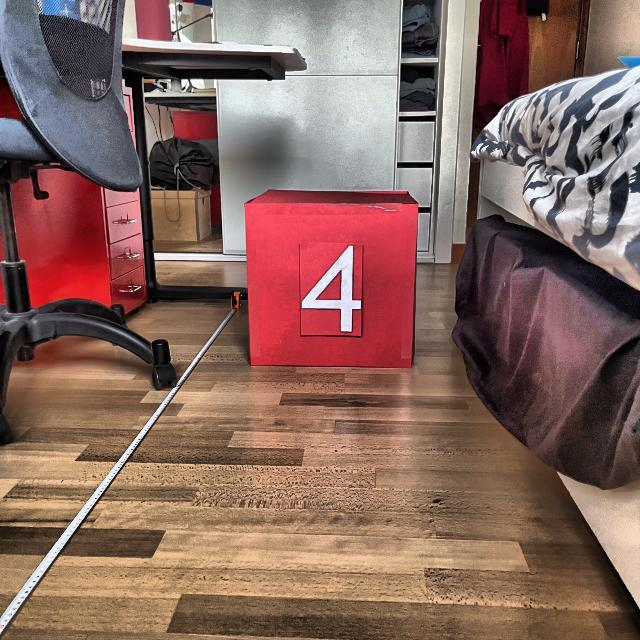four: (300, 244, 362, 334)
red box: (246, 188, 417, 371)
